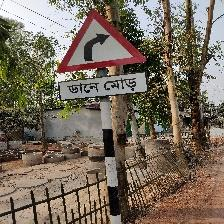Right-turn: (55, 8, 149, 102)
